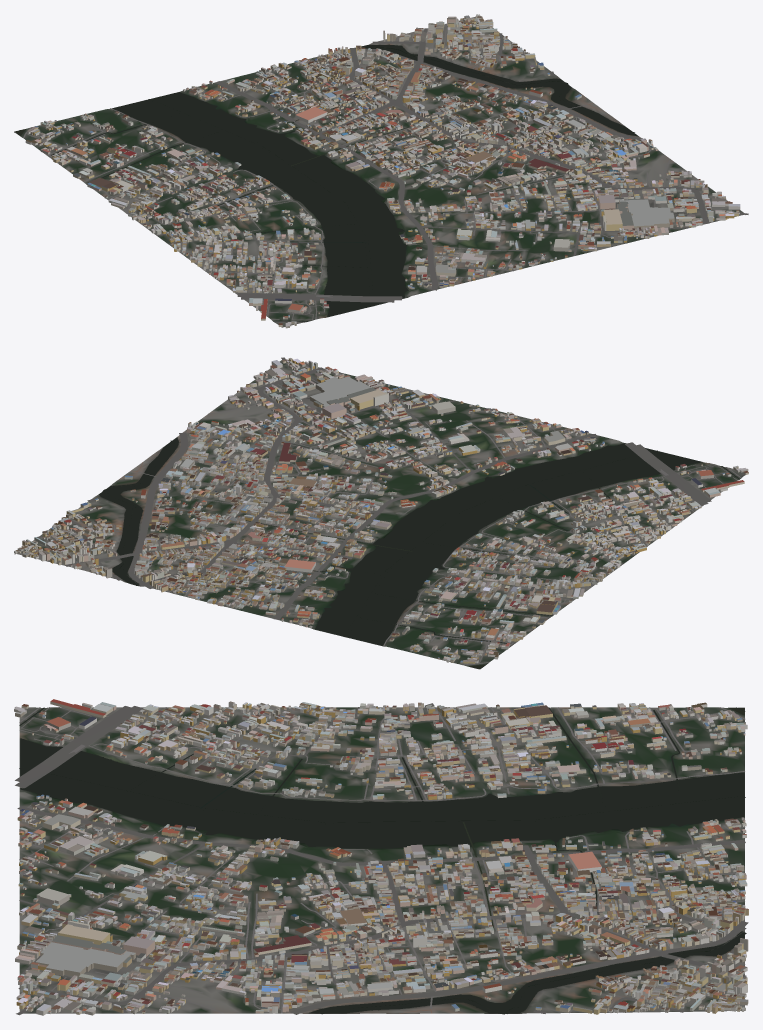
The picture shows the model from 3 angles, top to bottom: view 1: azimuth 30°, elevation 25°; view 2: azimuth 150°, elevation 25°; view 3: azimuth 270°, elevation 25°; orthographic projection. The views are drawn at different scales.
Parts seen in each view (by area): view 1: buildings, ground, water, roads; view 2: buildings, ground, water, roads; view 3: buildings, ground, water, roads.
Boxes of the visible parts, left/top/right/bottom form: buildings: left=25, top=14, right=740, bottom=328; ground: left=14, top=16, right=744, bottom=327; water: left=15, top=44, right=638, bottom=321; roads: left=23, top=23, right=748, bottom=322; buildings: left=14, top=358, right=748, bottom=663; ground: left=14, top=359, right=744, bottom=669; water: left=99, top=437, right=739, bottom=668; roads: left=37, top=357, right=741, bottom=665; buildings: left=14, top=699, right=748, bottom=1015; ground: left=19, top=707, right=744, bottom=1013; water: left=19, top=707, right=746, bottom=1014; roads: left=15, top=706, right=748, bottom=1015.
Bounding box in the file's own units: 1435 × 37.68 × 1419.
